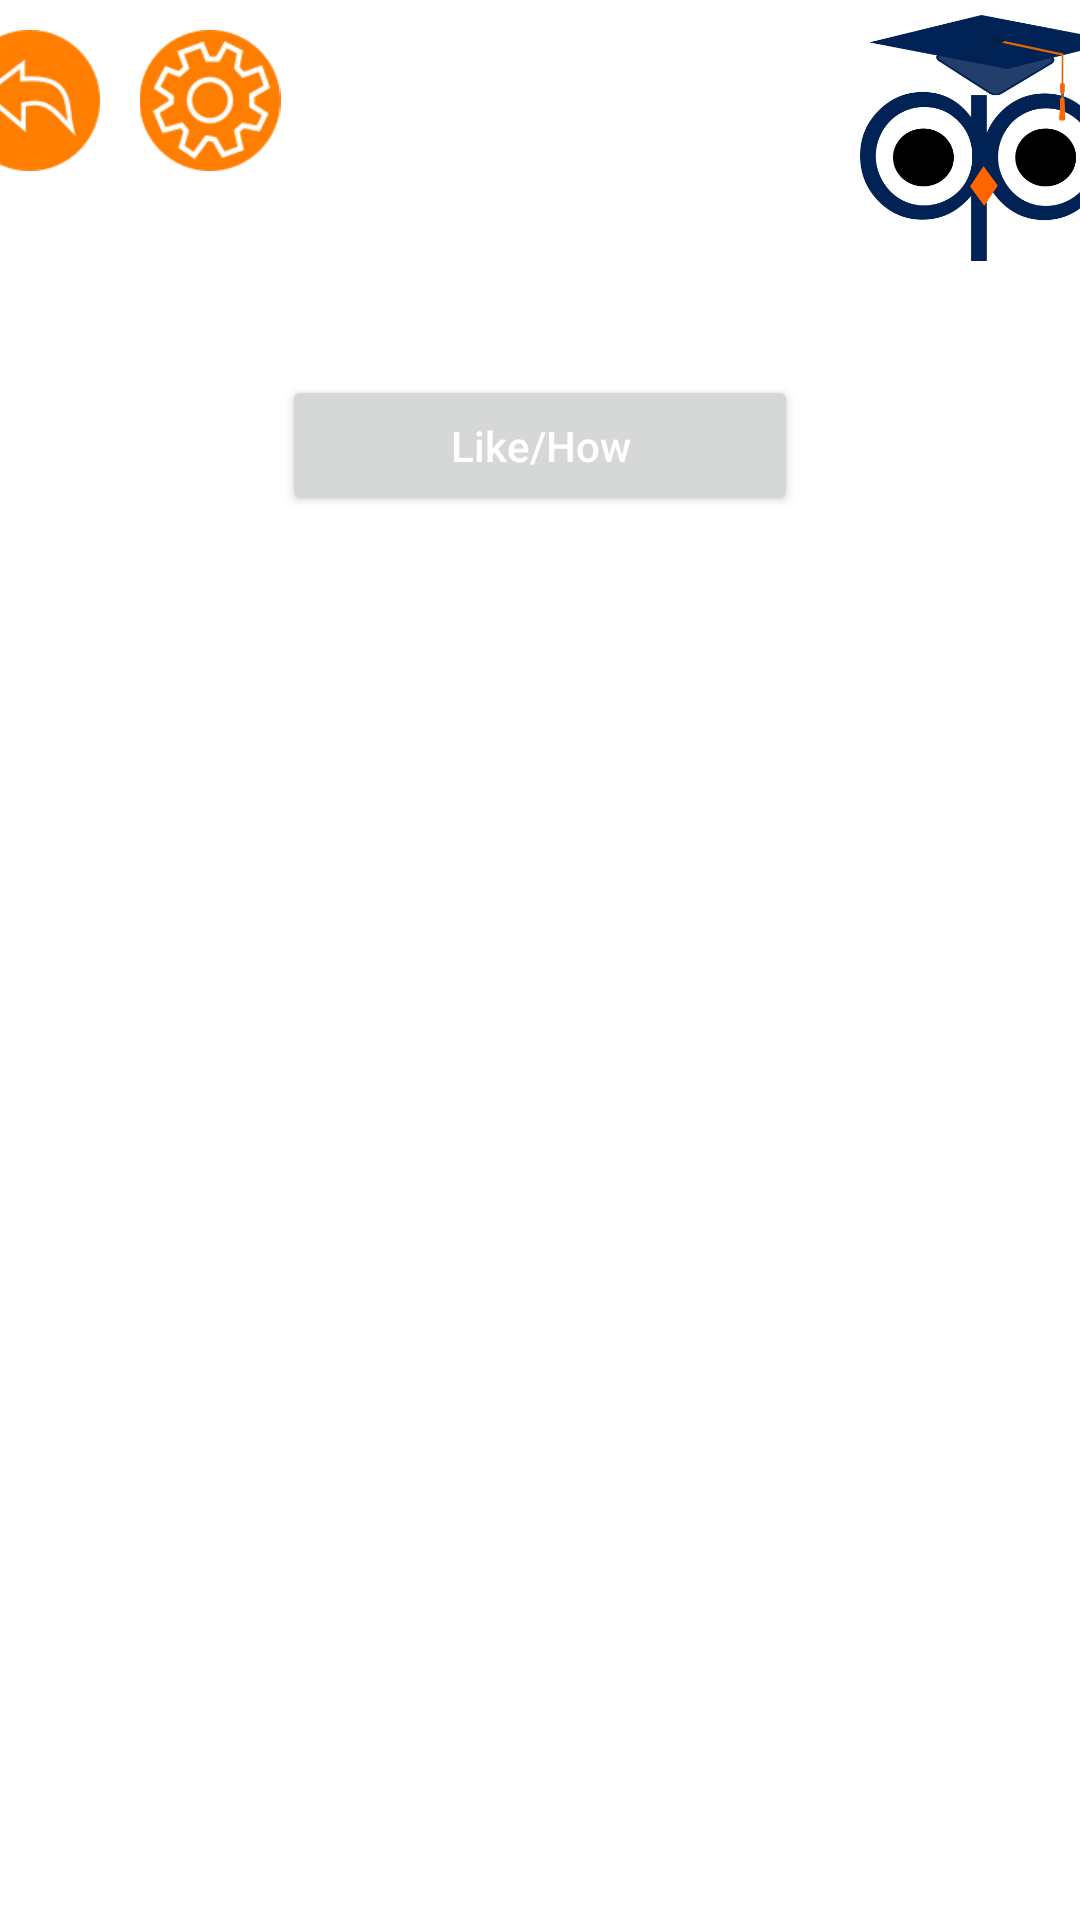

Icons on this 1080*1920 Android screen, each with its box as (x1, y1, x2, y2):
setings: (140, 30, 281, 171)
